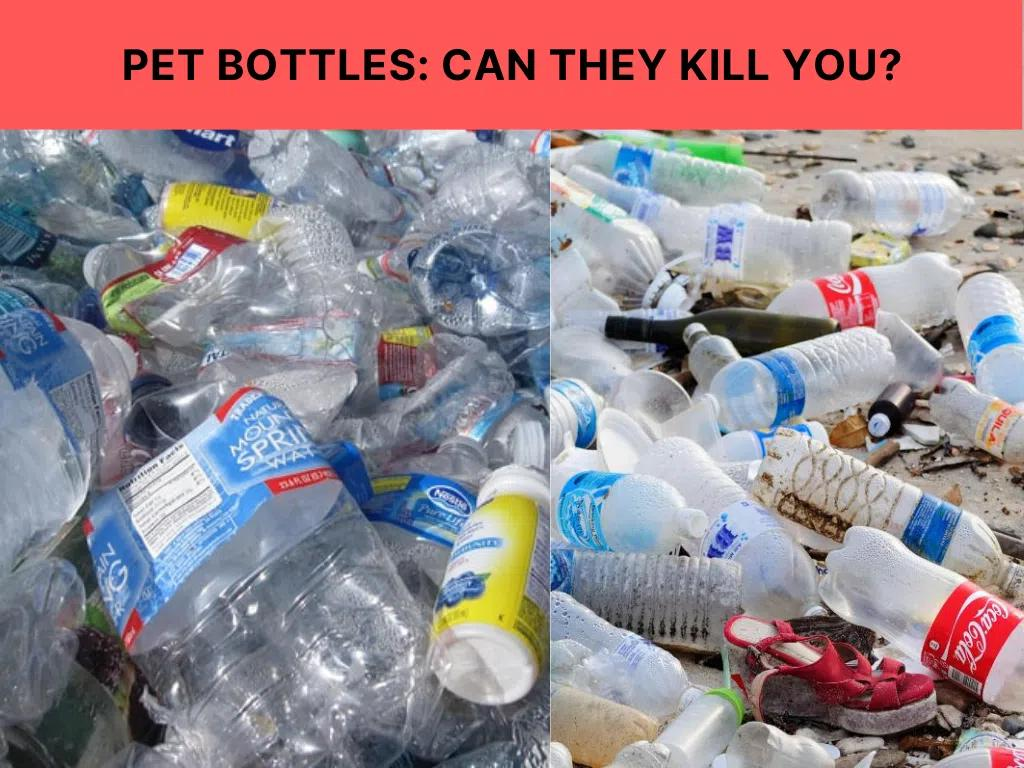paper: (615, 422, 840, 647), (701, 318, 905, 442), (760, 244, 972, 361), (547, 124, 769, 219), (552, 470, 710, 557), (808, 168, 975, 238)
